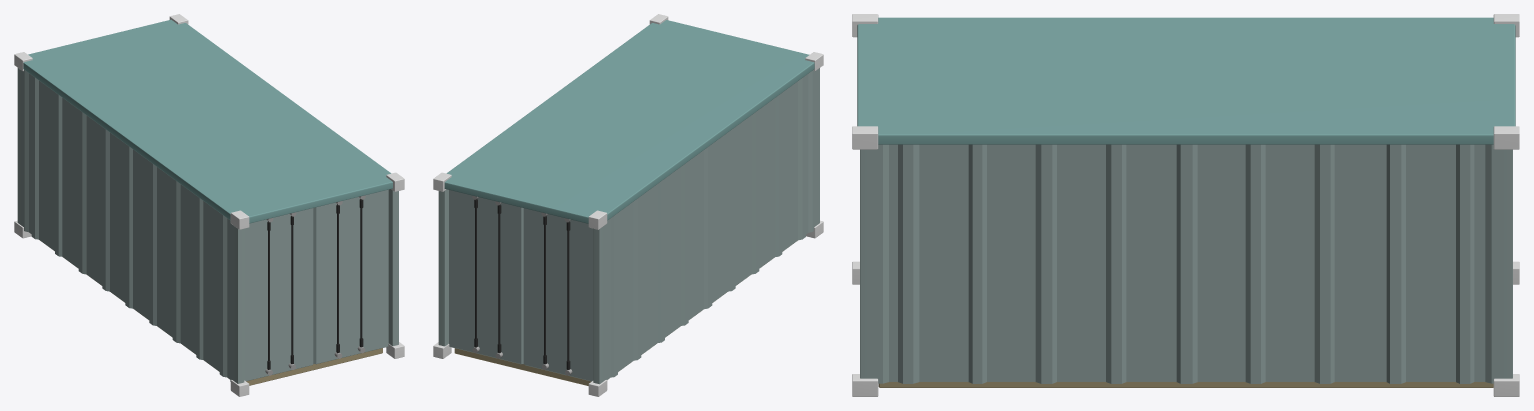
Rendered from Contenna.fbx.
3 renders of one model, left to right at view 1: azimuth 30°, elevation 25°; view 2: azimuth 150°, elevation 25°; view 3: azimuth 270°, elevation 25°, orthographic. The views are drawn at different scales.
Parts seen in each view (by area): view 1: pCylinder23; view 2: pCylinder23; view 3: pCylinder23.
Part boxes in pixels (x1,y1,x2,y2): pCylinder23: (14,14,404,396); pCylinder23: (433,14,823,396); pCylinder23: (852,14,1519,396).
Bounding box in the file's own units: 264 × 271 × 621.
